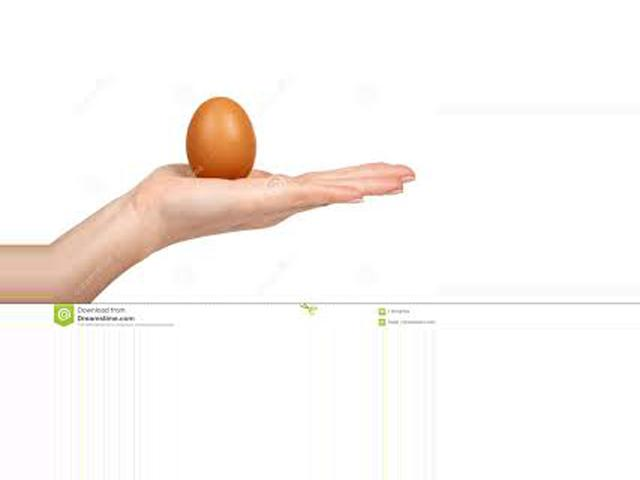egg: (187, 97, 256, 181)
